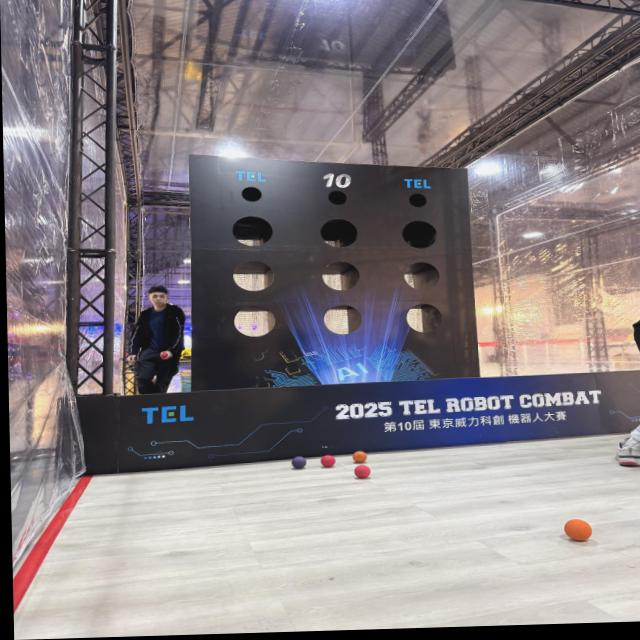hole: (233, 305, 276, 337), (232, 260, 274, 292), (233, 215, 274, 246), (325, 304, 362, 335), (323, 261, 360, 291), (321, 219, 358, 248), (407, 303, 442, 333), (405, 261, 440, 290), (403, 221, 437, 249), (241, 186, 262, 202), (328, 191, 347, 205), (409, 193, 427, 207)
